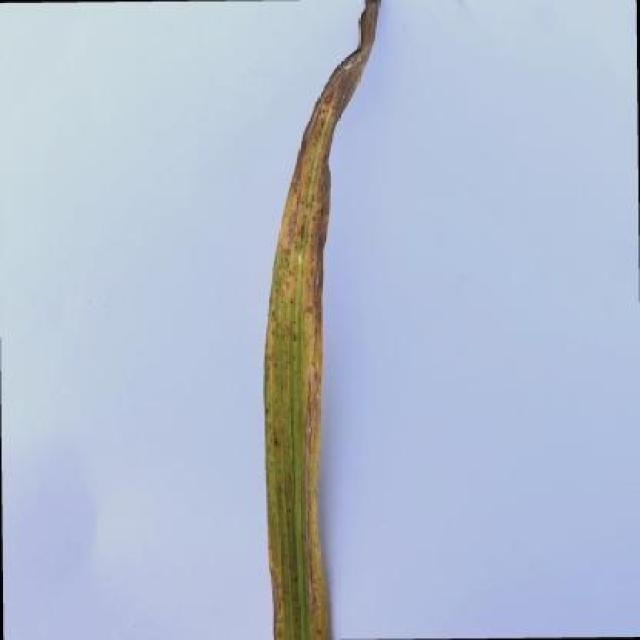Rice False Smut: (259, 84, 372, 639)
